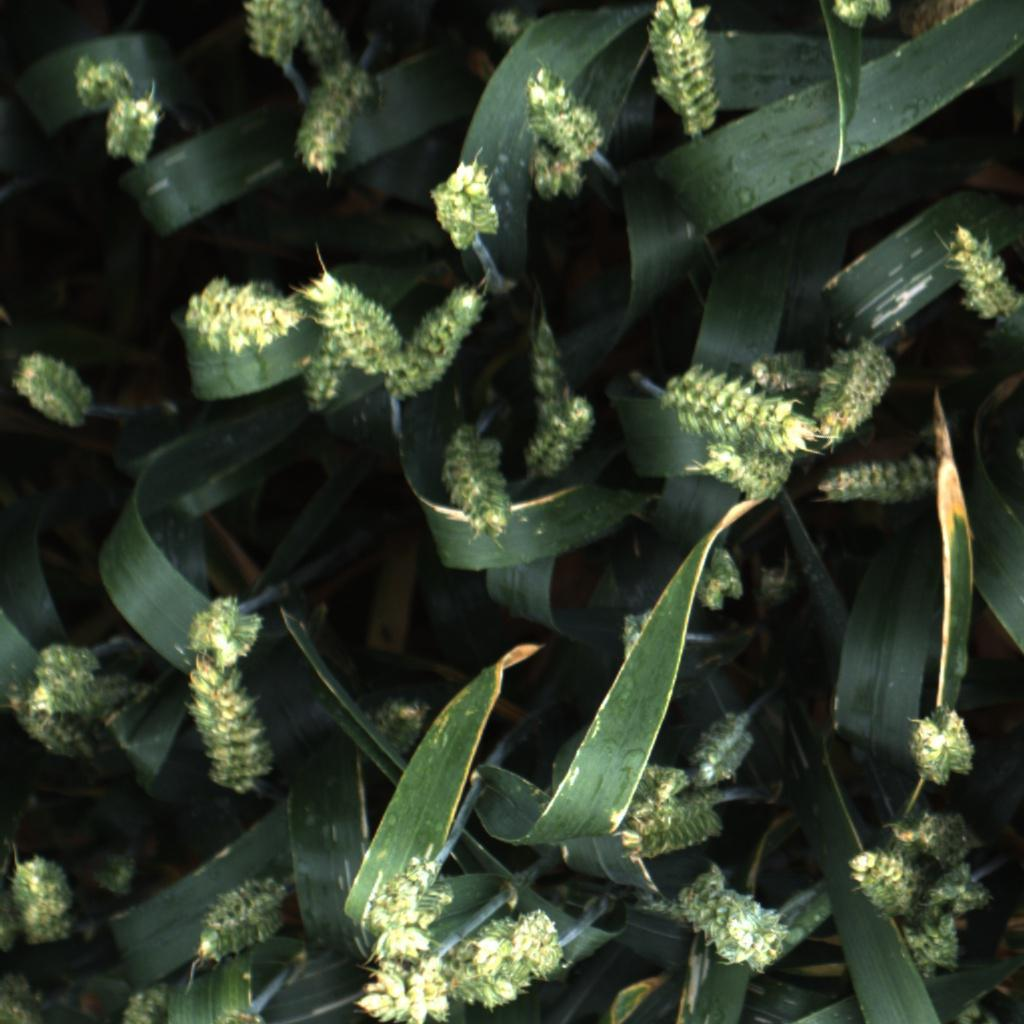0-0: (658, 368, 808, 453), (181, 658, 278, 789), (676, 872, 788, 978), (305, 266, 409, 379), (642, 0, 722, 134), (359, 854, 454, 956), (401, 284, 484, 399), (461, 915, 561, 1010), (290, 75, 378, 181), (185, 278, 298, 357), (437, 423, 513, 538), (811, 341, 892, 447), (944, 220, 1024, 325), (521, 57, 607, 151), (197, 879, 290, 964), (613, 791, 720, 862), (425, 155, 505, 249), (10, 682, 89, 771), (813, 456, 940, 509), (11, 849, 81, 943), (13, 345, 93, 427), (184, 589, 266, 669), (521, 396, 596, 483), (357, 957, 453, 1024), (26, 637, 104, 719), (694, 440, 792, 504), (908, 708, 981, 786), (625, 751, 691, 837), (361, 684, 437, 757), (885, 809, 984, 864), (842, 844, 917, 915), (682, 711, 753, 785), (900, 909, 966, 982), (100, 96, 165, 167), (299, 0, 357, 78), (235, 0, 304, 63), (65, 46, 136, 107), (301, 328, 349, 417), (79, 842, 145, 906), (525, 144, 593, 206), (523, 311, 570, 400), (917, 865, 993, 915), (740, 340, 808, 394), (696, 545, 745, 618), (755, 556, 811, 613), (0, 970, 59, 1024), (482, 0, 538, 49), (828, 0, 891, 37)
